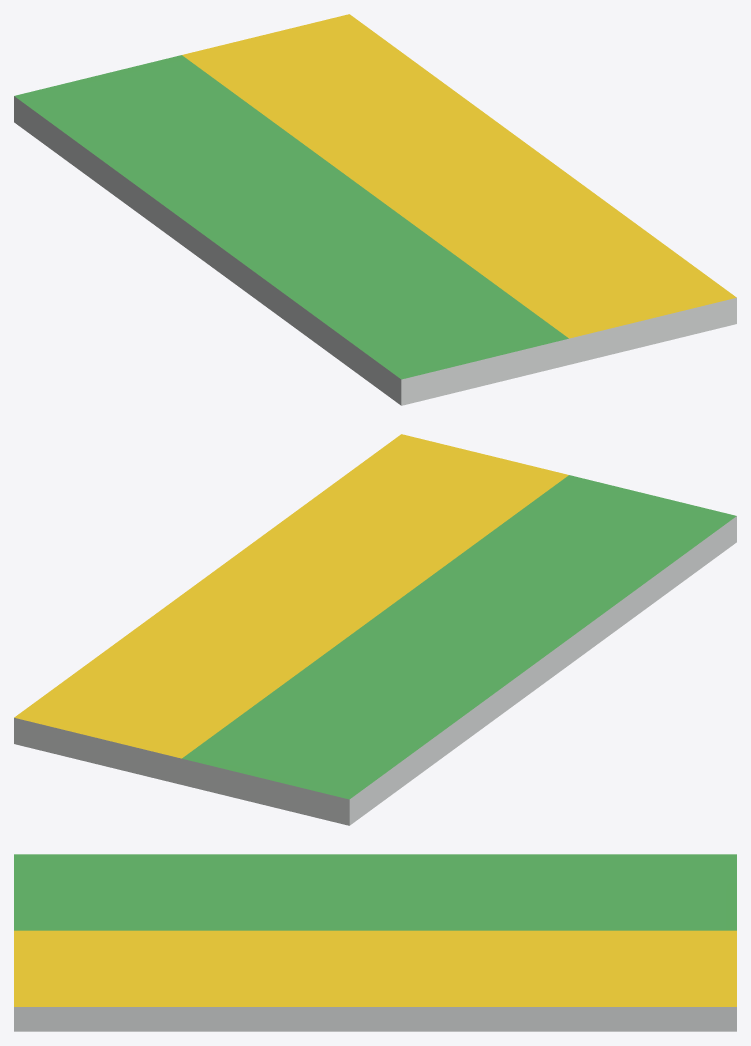
File: dem duong 3.fbx
3 views of the same model, one above another, from view 1: azimuth 30°, elevation 25°; view 2: azimuth 150°, elevation 25°; view 3: azimuth 270°, elevation 25° (orthographic). The views are drawn at different scales.
Visible parts, largest first — view 1: dem_duong3; view 2: dem_duong3; view 3: dem_duong3.
Part boxes in pixels (x1,y1,x2,y2): dem_duong3: (14, 14, 736, 405); dem_duong3: (14, 434, 736, 825); dem_duong3: (14, 854, 736, 1031).
Bounding box in the file's own units: 20 × 1.5 × 40.
Materials: 1 (1 with a texture image).
